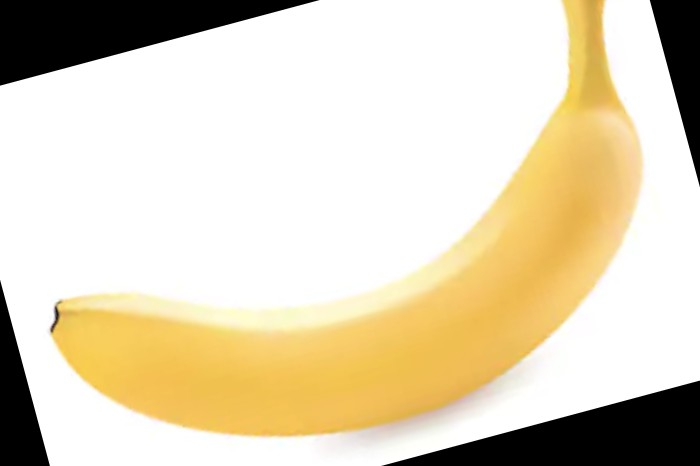fresh_banana: (50, 2, 641, 436)
